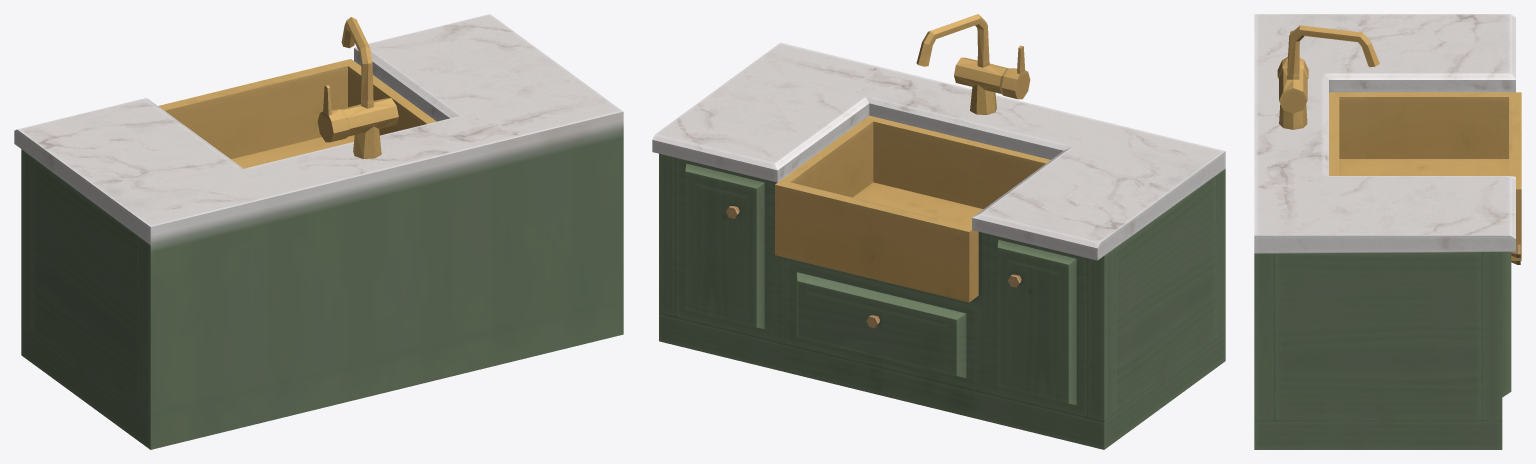
The model's file is P_Cupboard_002_S1_M03.obj.
3 renders of one model, left to right at view 1: azimuth 30°, elevation 25°; view 2: azimuth 150°, elevation 25°; view 3: azimuth 270°, elevation 25°, orthographic. The views are drawn at different scales.
Size of the model in its own units: 2 by 1.33 by 1.02.
1 material, 1 textured.
